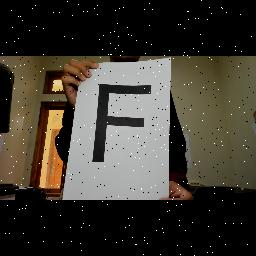f: (90, 80, 156, 170)
